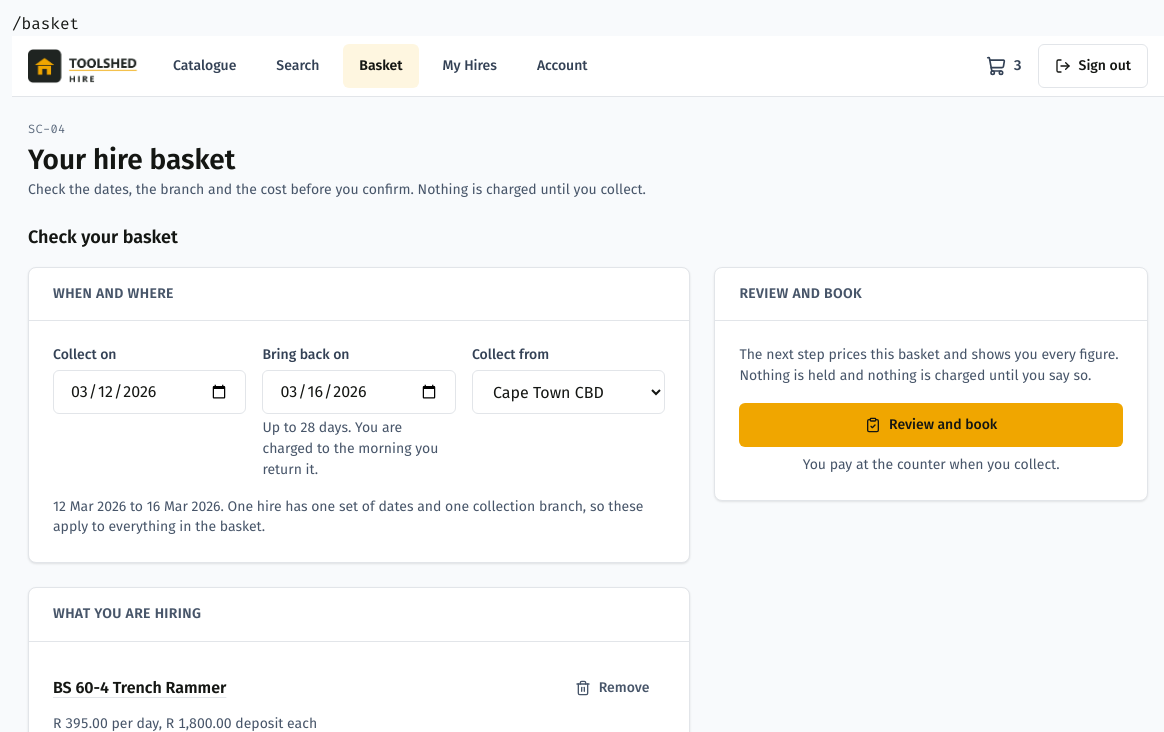
it: a basket with something in it › takes a tool out, and is empty when the last one goes
Check: the link "BS 60-4 Trench Rammer" is shown, box [53,678,226,697]
Click the button "Remove": (612, 688) [559,666,665,710]
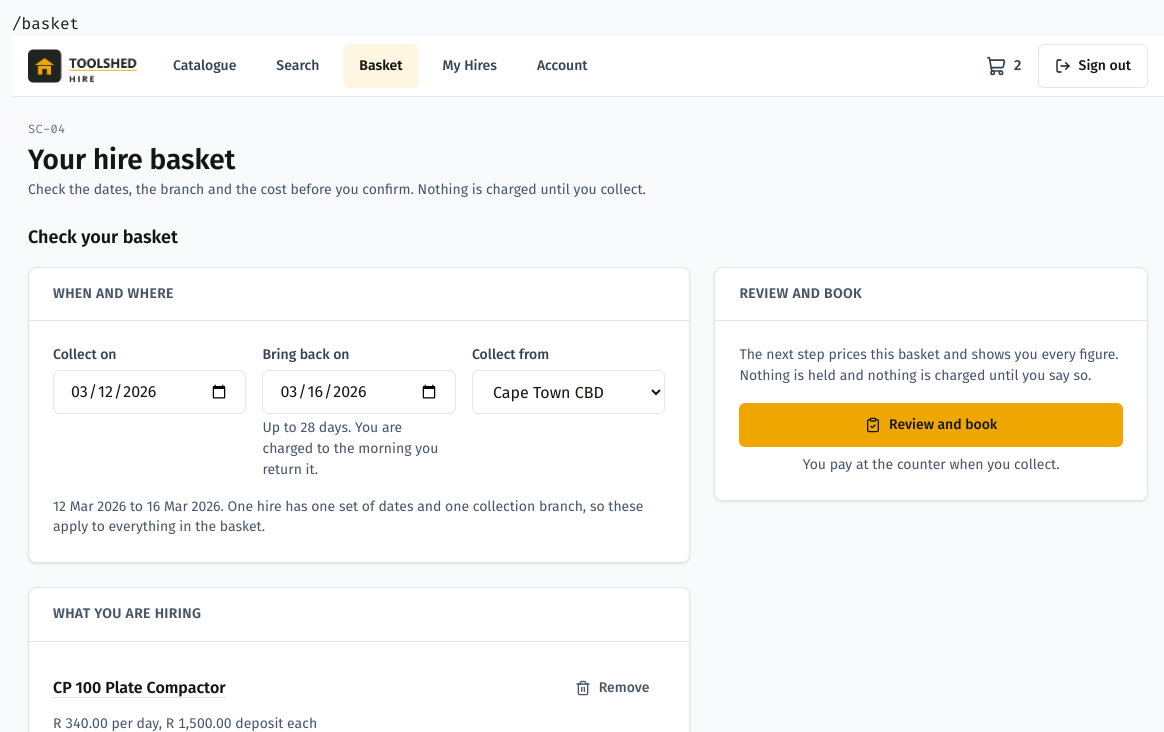
Check: the link "BS 60-4 Trench Rammer" is gone
Click the button "Remove": (612, 688) [559,666,665,710]
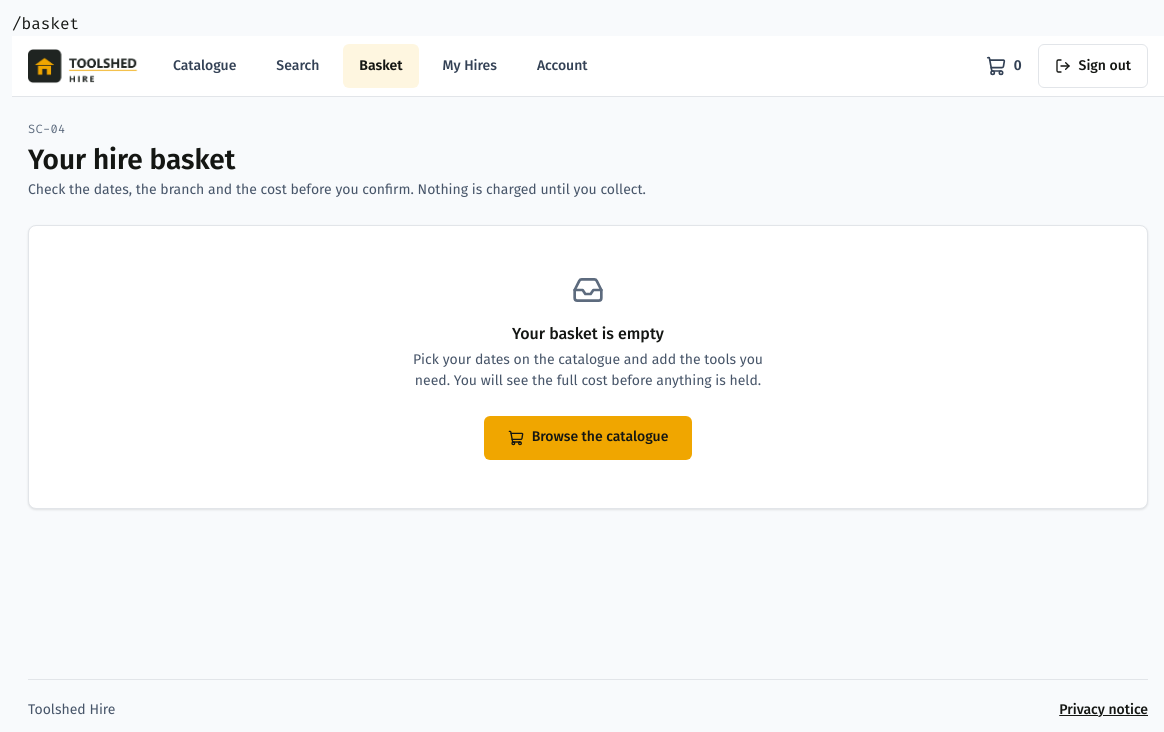
Check: the text "Your basket is empty" is shown, box [512,322,664,346]
